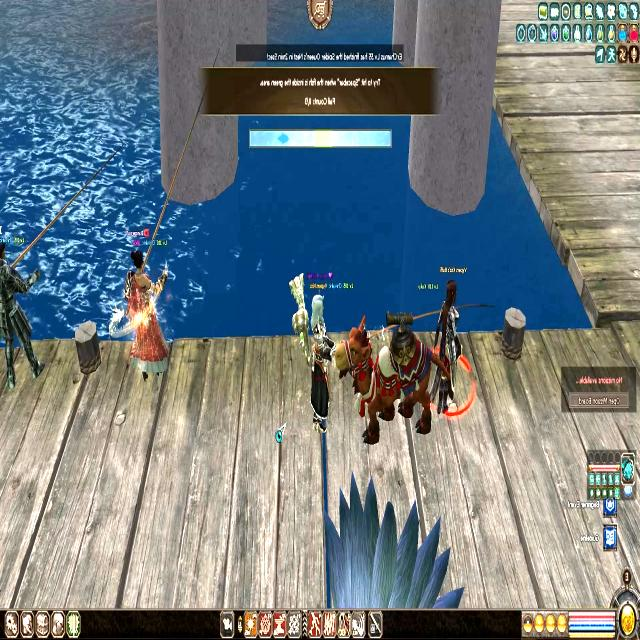fishes: (278, 131, 289, 145)
